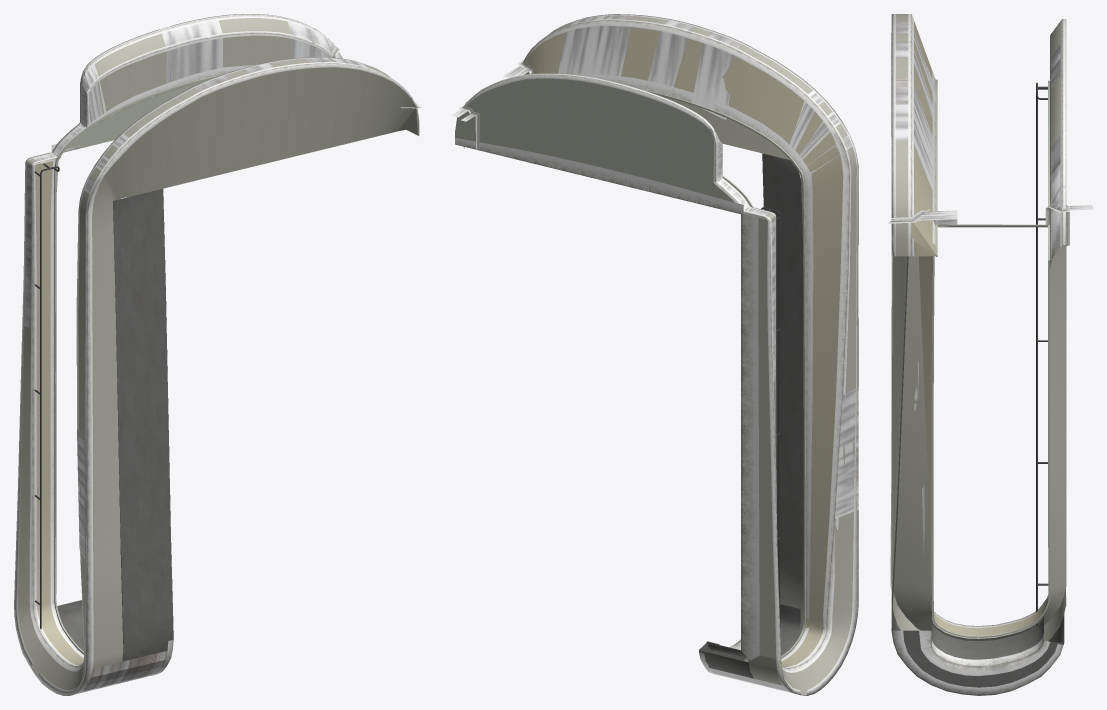
File: nt_2020_red_house_roof_shell_LOD0.obj
3 renders of one model, left to right at view 1: azimuth 30°, elevation 25°; view 2: azimuth 150°, elevation 25°; view 3: azimuth 270°, elevation 25°, orthographic. The views are drawn at different scales.
Visible parts, largest first — view 1: hjk_interior_plastic_tile, metal_stainless_steel_groves_editor, decal_damage_wall_fillet, decal_grunge_metal_leak, hjk_interior_plastic_tile_02, plastic_panel_off_white, metal_chrome_boat; view 2: decal_damage_wall_fillet, plastic_panel_off_white, hjk_interior_plastic_tile_02, hjk_interior_plastic_tile, metal_stainless_steel_groves_editor, decal_grunge_metal_leak, metal_chrome_boat; view 3: hjk_interior_plastic_tile, decal_damage_wall_fillet, hjk_interior_plastic_tile_02, metal_stainless_steel_groves_editor, decal_grunge_metal_leak, plastic_panel_off_white, metal_chrome_boat.
Part boxes in pixels (x1=…): hjk_interior_plastic_tile: x1=17, y1=18, x2=417, y2=689; metal_stainless_steel_groves_editor: x1=57, y1=189, x2=173, y2=661; decal_damage_wall_fillet: x1=14, y1=14, x2=422, y2=695; decal_grunge_metal_leak: x1=24, y1=20, x2=370, y2=693; hjk_interior_plastic_tile_02: x1=35, y1=161, x2=83, y2=665; plastic_panel_off_white: x1=54, y1=48, x2=418, y2=654; metal_chrome_boat: x1=34, y1=163, x2=59, y2=629; decal_damage_wall_fillet: x1=455, y1=14, x2=858, y2=695; plastic_panel_off_white: x1=455, y1=63, x2=805, y2=658; hjk_interior_plastic_tile_02: x1=524, y1=27, x2=843, y2=667; hjk_interior_plastic_tile: x1=463, y1=16, x2=856, y2=695; metal_stainless_steel_groves_editor: x1=699, y1=153, x2=803, y2=678; decal_grunge_metal_leak: x1=452, y1=15, x2=858, y2=693; metal_chrome_boat: x1=761, y1=207, x2=780, y2=627; hjk_interior_plastic_tile: x1=891, y1=14, x2=1065, y2=640; decal_damage_wall_fillet: x1=887, y1=14, x2=1069, y2=695; hjk_interior_plastic_tile_02: x1=912, y1=21, x2=1048, y2=638; metal_stainless_steel_groves_editor: x1=891, y1=256, x2=1064, y2=687; decal_grunge_metal_leak: x1=895, y1=22, x2=1092, y2=414; plastic_panel_off_white: x1=890, y1=79, x2=1067, y2=638; metal_chrome_boat: x1=1036, y1=83, x2=1048, y2=625.
Size of the model in its own units: 1130 by 1949 by 521.
